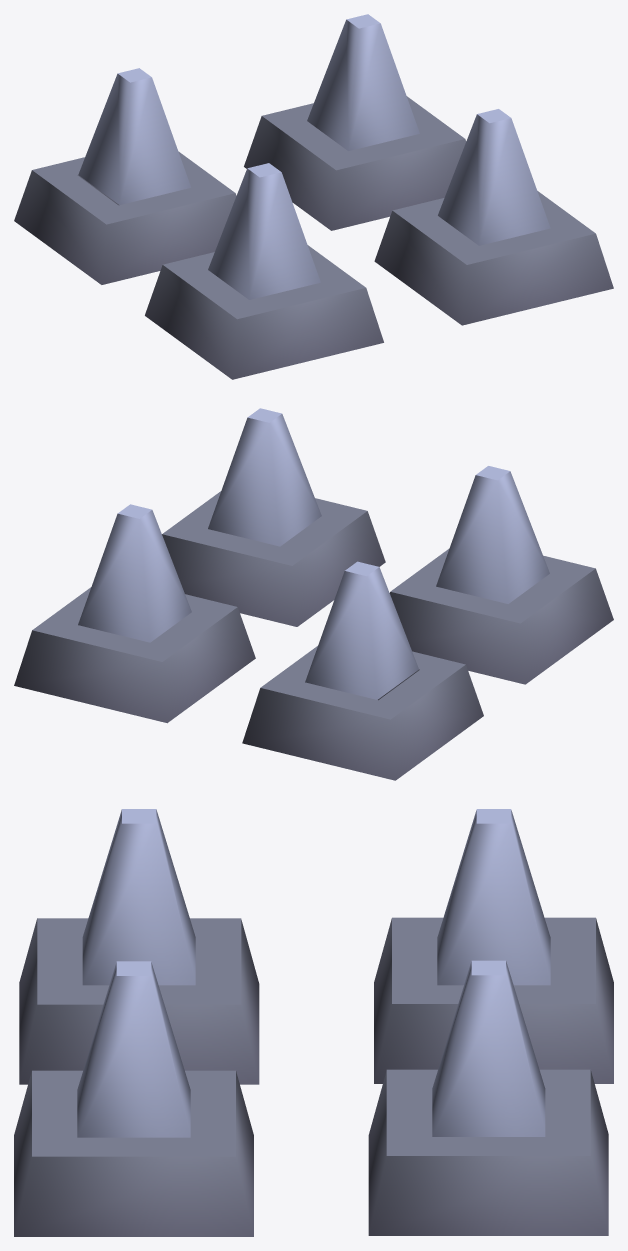
The model's file is trap-spikes.glb.
3 renders of one model, top to bottom at view 1: azimuth 30°, elevation 25°; view 2: azimuth 150°, elevation 25°; view 3: azimuth 270°, elevation 25°, orthographic. The views are drawn at different scales.
Visible parts, largest first — view 1: trap-spikes, spikes; view 2: trap-spikes, spikes; view 3: trap-spikes, spikes.
Boxes of the visible parts, x1,y1,x2,y2 form: trap-spikes: [14, 96, 613, 379]; spikes: [78, 14, 550, 299]; trap-spikes: [14, 491, 613, 780]; spikes: [78, 408, 549, 699]; trap-spikes: [14, 917, 613, 1236]; spikes: [77, 809, 550, 1137].
Size of the model in its own units: 0.6392 by 0.255 by 0.6375.
1 material, 1 textured.
